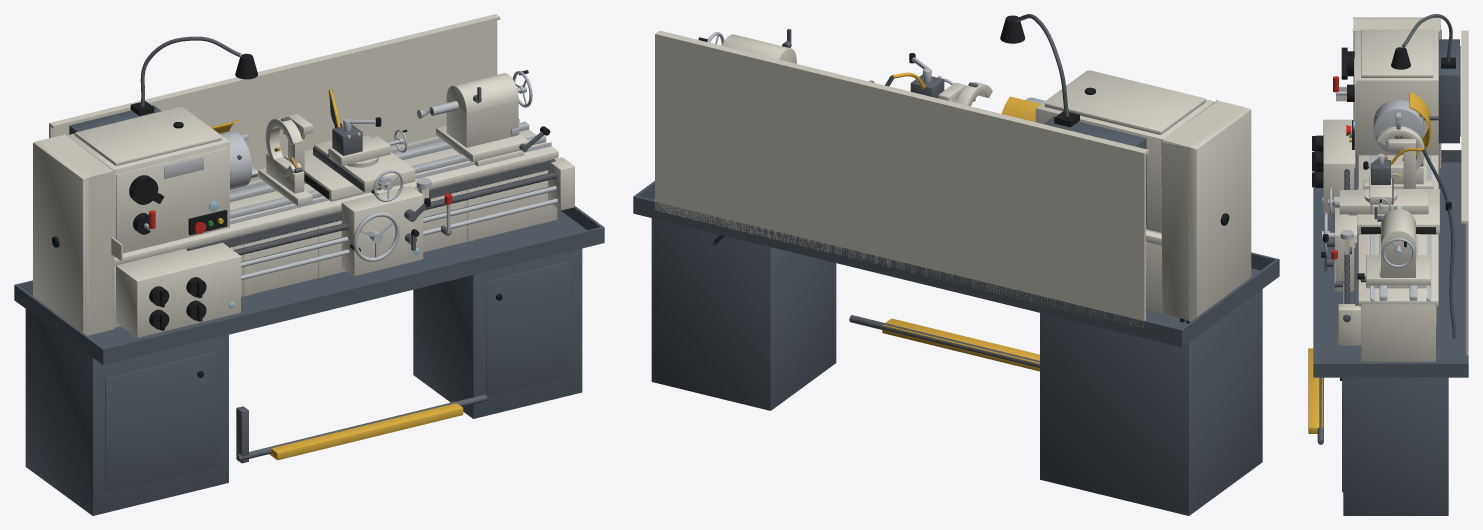
The model's file is torno_tm300.glb.
3 renders of one model, left to right at view 1: azimuth 30°, elevation 25°; view 2: azimuth 150°, elevation 25°; view 3: azimuth 270°, elevation 25°, orthographic. The views are drawn at different scales.
Parts seen in each view (by area): view 1: gabinete_izq, guardasalpicaduras, gabinete_der, bancada, bandeja, tapa_lira, cabezal_carcasa, caja_norton, delantal, cabezal_tapa, contrapunto_cuerpo, freno_pie (+19 smaller); view 2: guardasalpicaduras, gabinete_izq, gabinete_der, tapa_lira, bandeja, cabezal_tapa, freno_pie, cabezal_carcasa, lampara, bancada, tablero, contrapunto_cuerpo (+1 smaller); view 3: gabinete_der, bandeja, bancada, cabezal_carcasa, cabezal_tapa, caja_norton, tablero, contrapunto_cuerpo, guardasalpicaduras, carro_transversal, carro_principal, plato (+20 smaller).
Part boxes in pixels (<box>): gabinete_izq: <box>25,309,228,515</box>; guardasalpicaduras: <box>49,14,500,181</box>; gabinete_der: <box>413,248,582,418</box>; bancada: <box>114,119,558,327</box>; bandeja: <box>14,206,604,365</box>; tapa_lira: <box>33,133,115,335</box>; cabezal_carcasa: <box>67,107,229,253</box>; caja_norton: <box>116,242,240,337</box>; delantal: <box>341,186,423,276</box>; cabezal_tapa: <box>74,107,221,165</box>; contrapunto_cuerpo: <box>446,73,519,147</box>; freno_pie: <box>236,394,487,463</box>; guardasalpicaduras: <box>655,30,1148,327</box>; gabinete_izq: <box>1040,289,1262,515</box>; gabinete_der: <box>651,218,836,410</box>; tapa_lira: <box>1161,99,1251,321</box>; bandeja: <box>633,181,1279,347</box>; cabezal_tapa: <box>1044,70,1205,134</box>; freno_pie: <box>849,315,1039,371</box>; cabezal_carcasa: <box>1035,70,1214,232</box>; lampara: <box>1000,14,1079,127</box>; bancada: <box>1146,229,1162,313</box>; tablero: <box>1043,116,1146,223</box>; contrapunto_cuerpo: <box>722,34,796,63</box>; gabinete_der: <box>1340,377,1448,515</box>; bandeja: <box>1313,150,1468,377</box>; bancada: <box>1358,155,1438,361</box>; cabezal_carcasa: <box>1353,30,1438,155</box>; cabezal_tapa: <box>1361,29,1433,77</box>; caja_norton: <box>1322,119,1355,213</box>; tablero: <box>1438,39,1460,143</box>; contrapunto_cuerpo: <box>1379,209,1416,277</box>; guardasalpicaduras: <box>1461,30,1468,355</box>; carro_transversal: <box>1339,190,1428,214</box>; carro_principal: <box>1348,189,1440,234</box>; plato: <box>1373,99,1423,153</box>.
Bounding box in the file's own units: 2.02 × 1.56 × 0.64.
